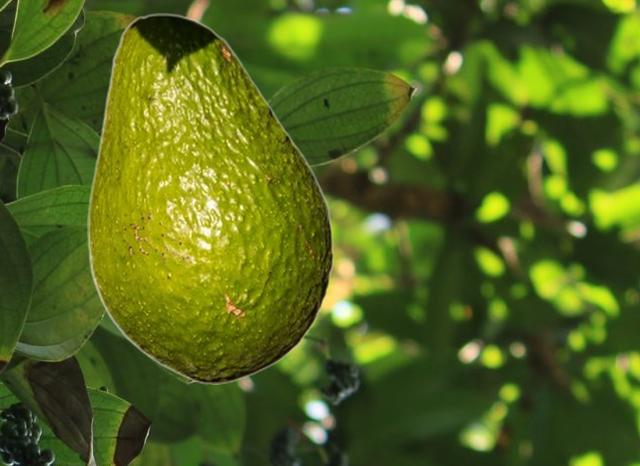avocado: (87, 13, 333, 383)
